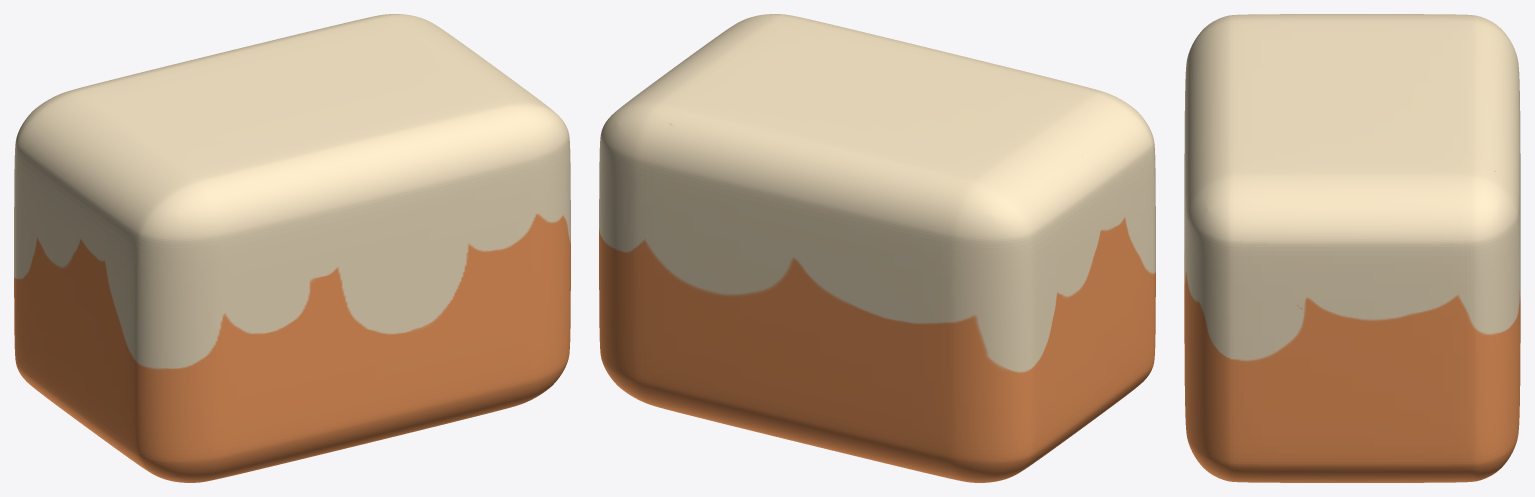
The model's file is Block01.fbx.
The picture shows the model from 3 angles, left to right: view 1: azimuth 30°, elevation 25°; view 2: azimuth 150°, elevation 25°; view 3: azimuth 270°, elevation 25°; orthographic projection.
Parts seen in each view (by area): view 1: Cube.002; view 2: Cube.002; view 3: Cube.002.
Boxes of the visible parts, x1=… form: Cube.002: x1=14, y1=14, x2=570, y2=482; Cube.002: x1=599, y1=14, x2=1155, y2=482; Cube.002: x1=1184, y1=14, x2=1520, y2=482.
Bounding box in the file's own units: 300 × 200 × 200.
